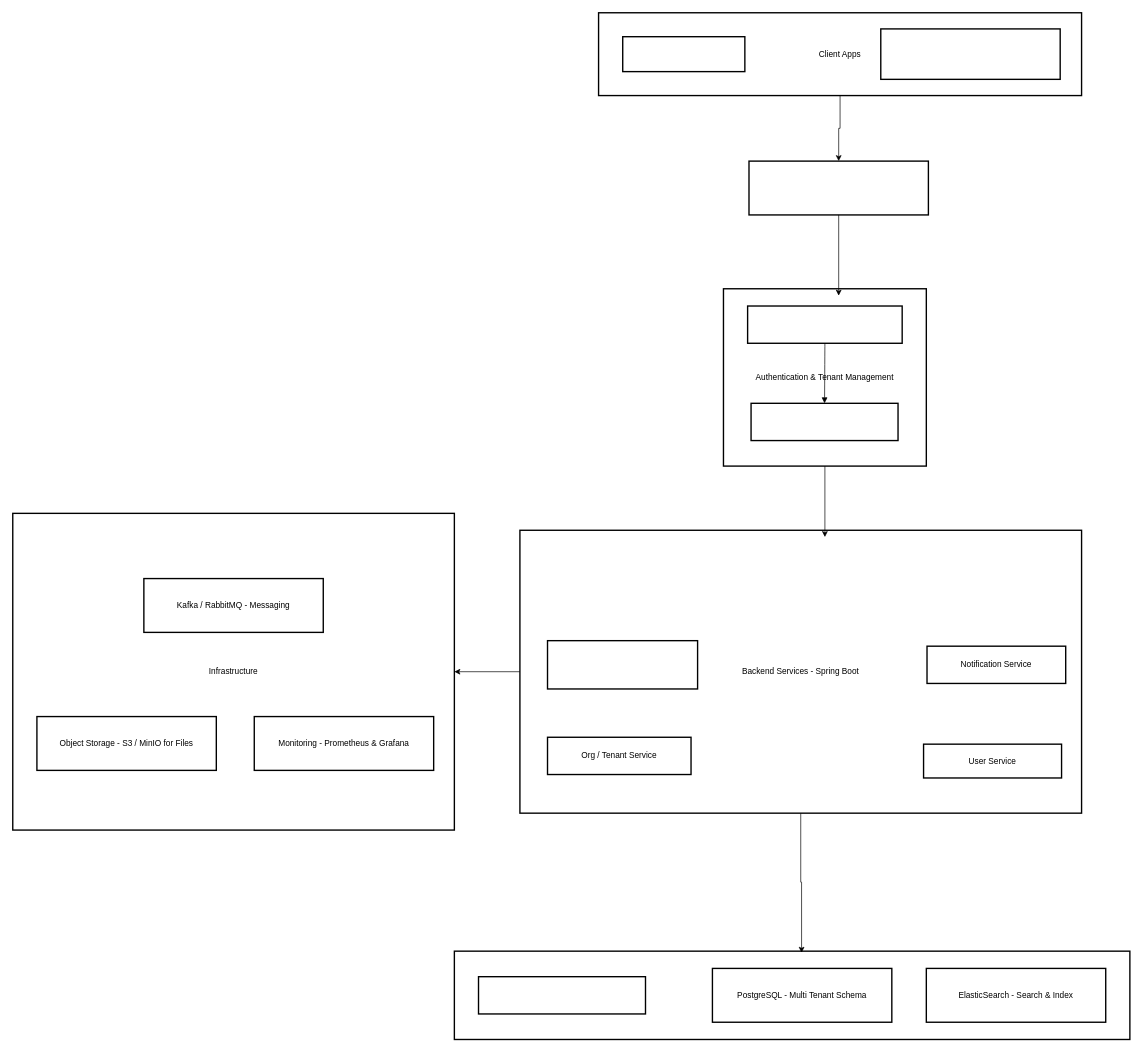
Some shapes in this 1142 by 1052 pixel diagram are drawn without their labels. The shapes that lost their labels are listed below. From the top down, each one's centre as x and y in pixels, then its label:
At (683,54): "Web App - React".
At (970,54): "Mobile App - Flutter / React Native".
At (838,187): "Ingress Controller - Nginx / API Gateway".
At (825,324): "Keycloak / Auth Server".
At (824,421): "JWT / OAuth2 Tokens".
At (622,664): "Chat Service - WebSocket / SSE".
At (561,995): "Redis - Caching & PubSub".
